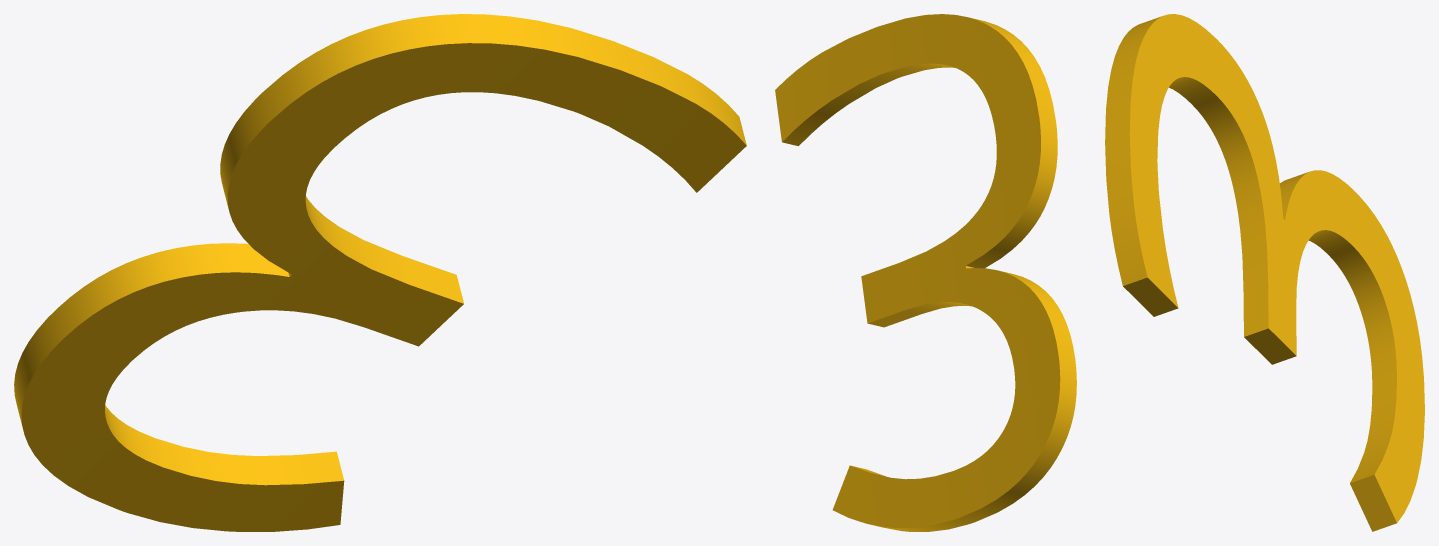
File: Number_3.gltf
3 views of the same model, side by side, from view 1: azimuth 30°, elevation 25°; view 2: azimuth 150°, elevation 25°; view 3: azimuth 270°, elevation 25° (orthographic). The views are drawn at different scales.
Visible parts, largest first — view 1: Sub_2_Cell_1_2_Number_3; view 2: Sub_2_Cell_1_2_Number_3; view 3: Sub_2_Cell_1_2_Number_3.
Boxes of the visible parts, box(x1,y1,x2,y2) form: Sub_2_Cell_1_2_Number_3: box(14, 14, 746, 531); Sub_2_Cell_1_2_Number_3: box(775, 14, 1076, 531); Sub_2_Cell_1_2_Number_3: box(1105, 14, 1424, 531).
Size of the model in its own units: 0.0226 by 0.0235 by 0.014.
